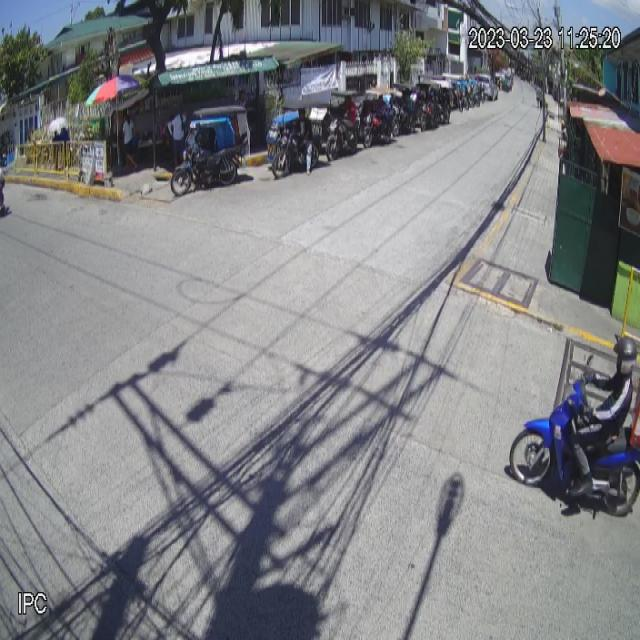Motorcycle: (509, 354, 640, 516)
Tricycle: (170, 105, 252, 197)
